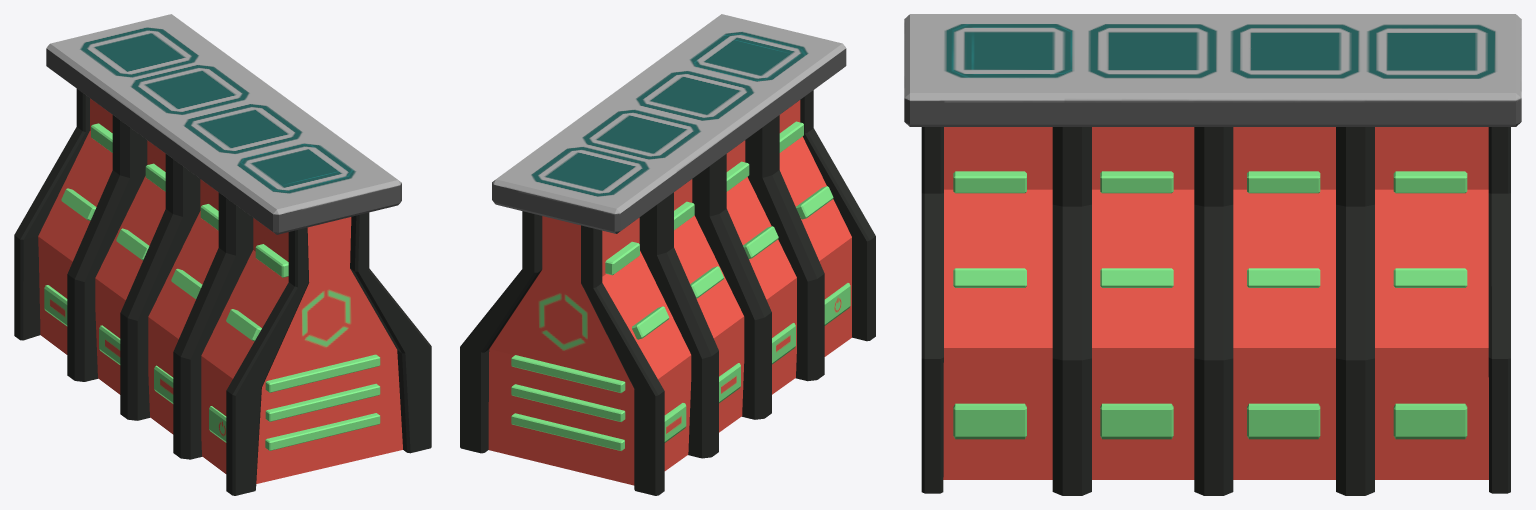
File: SM_Props_11.fbx
3 views of the same model, side by side, from view 1: azimuth 30°, elevation 25°; view 2: azimuth 150°, elevation 25°; view 3: azimuth 270°, elevation 25° (orthographic). The views are drawn at different scales.
Visible parts, largest first — view 1: SM_Props_11; view 2: SM_Props_11; view 3: SM_Props_11.
Part boxes in pixels (x1,y1,x2,y2): SM_Props_11: [14, 14, 431, 495]; SM_Props_11: [460, 14, 875, 495]; SM_Props_11: [904, 14, 1521, 495].
Size of the model in its own units: 57.55 by 114 by 76.55.
Materials: 1 (1 with a texture image).
